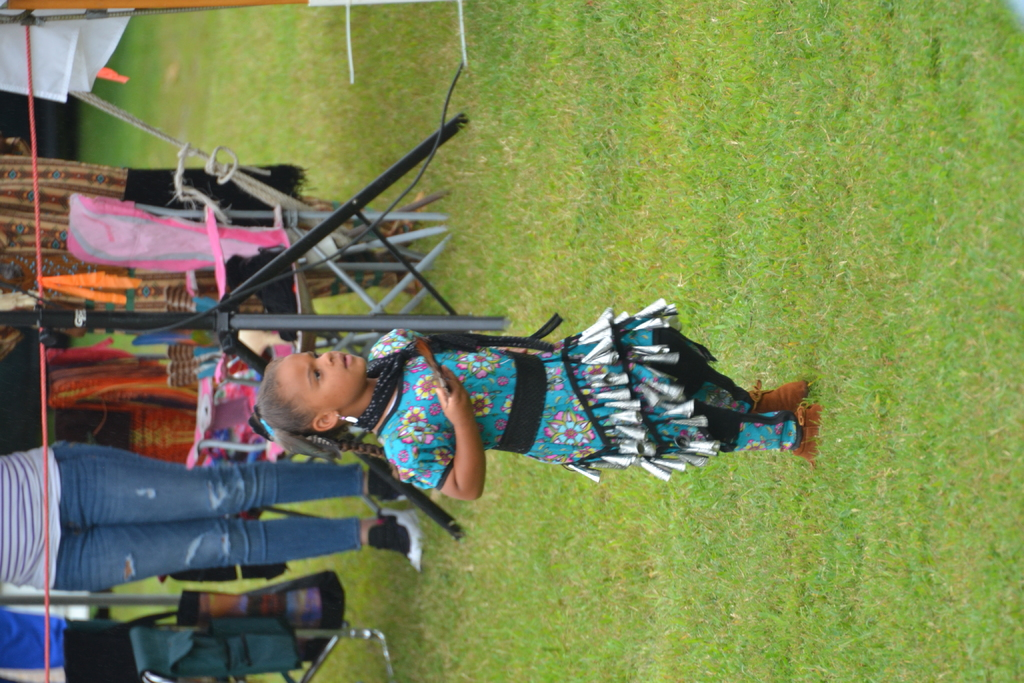Person: (247, 297, 823, 501), (0, 440, 423, 591)
